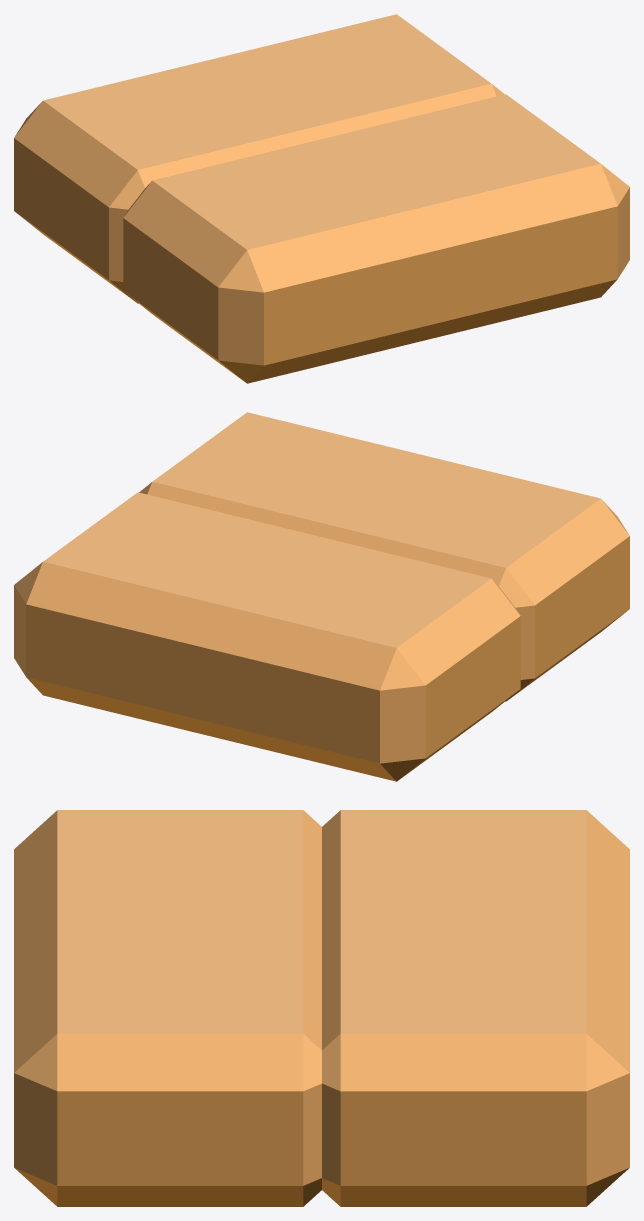
File: m_kub_clay_floorTwoBrick.FBX
The picture shows the model from 3 angles, top to bottom: view 1: azimuth 30°, elevation 25°; view 2: azimuth 150°, elevation 25°; view 3: azimuth 270°, elevation 25°; orthographic projection. The views are drawn at different scales.
Parts seen in each view (by area): view 1: m_kub_clay_floorTwoBrick; view 2: m_kub_clay_floorTwoBrick; view 3: m_kub_clay_floorTwoBrick.
Part boxes in pixels (<box>): m_kub_clay_floorTwoBrick: <box>14,14,629,383</box>; m_kub_clay_floorTwoBrick: <box>14,412,629,781</box>; m_kub_clay_floorTwoBrick: <box>14,810,629,1206</box>.
Bounding box in the file's own units: 2.18 × 0.6751 × 2.18.
